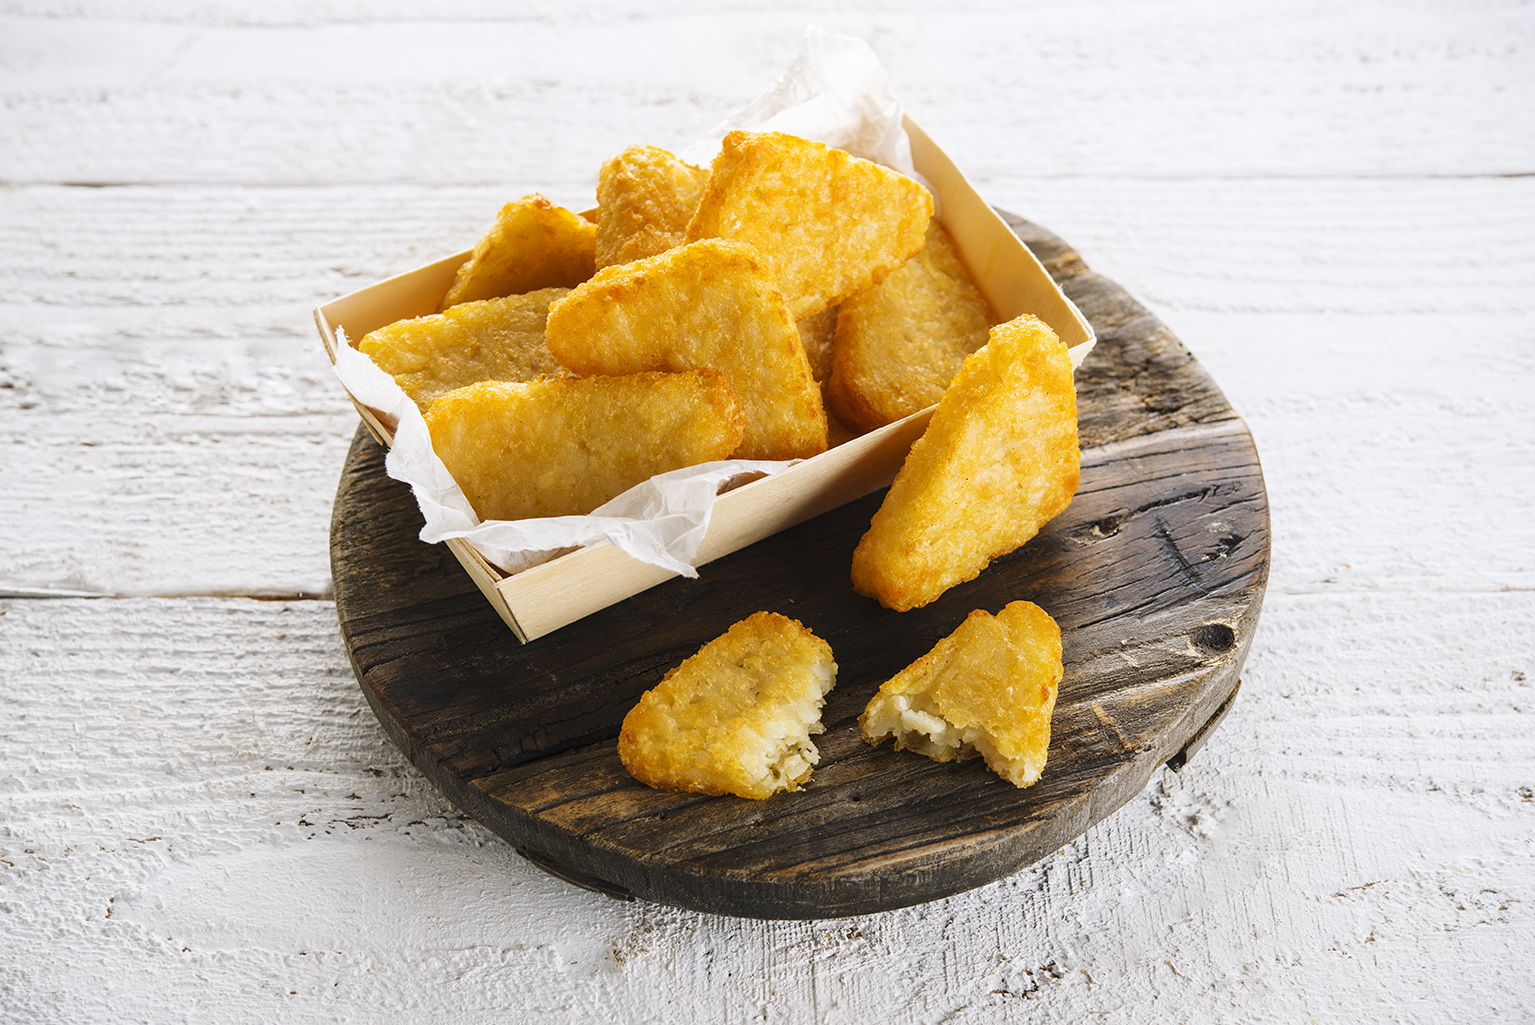triangle_hash_brown: (357, 132, 1013, 521), (853, 318, 1084, 611), (619, 607, 837, 802), (870, 599, 1068, 779)
